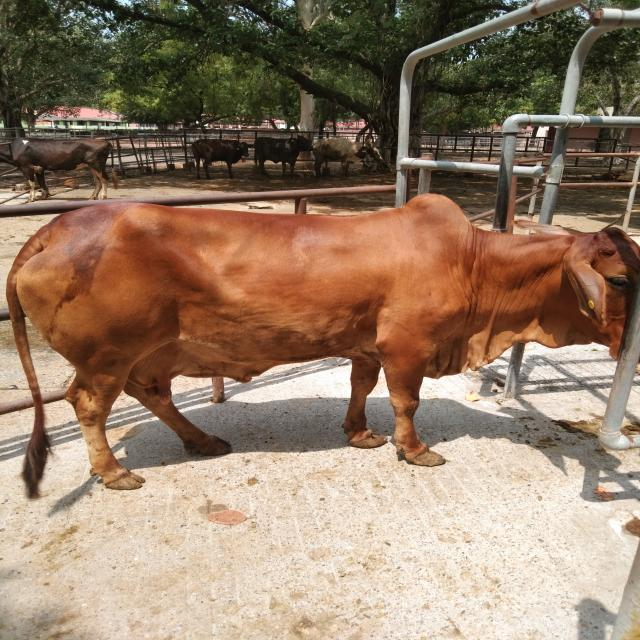1: (382, 193, 486, 208)
Hoof: (104, 472, 145, 490), (197, 435, 232, 456), (404, 449, 446, 466), (347, 432, 387, 448)
